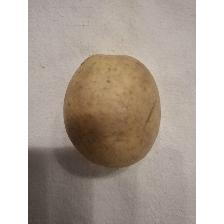Kartoffel: (60, 52, 164, 172)
